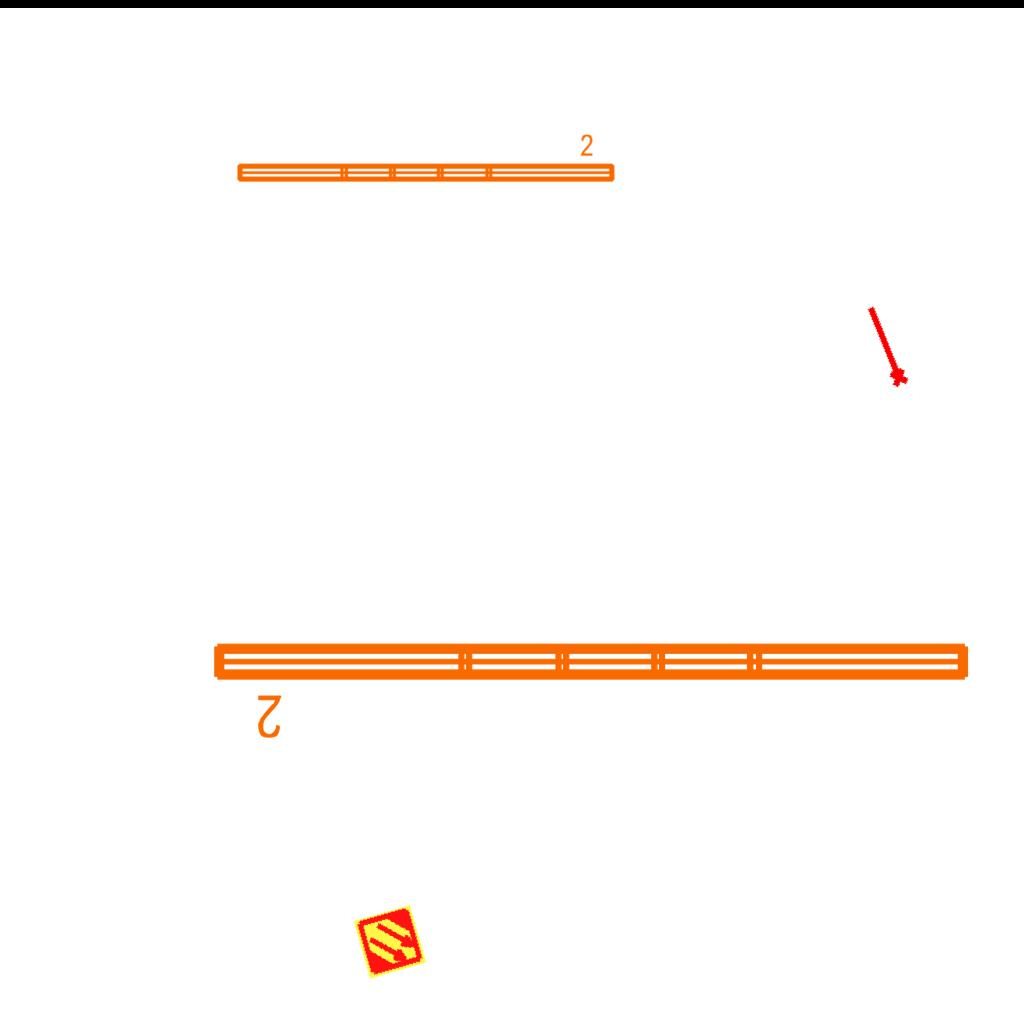ASR_Ansaugoeffnung: (857, 301, 913, 392)
ASR_Ansaugrauchmelder: (351, 903, 429, 981)
Ambulanz_Pendelleuchte_LED: (205, 631, 979, 743), (232, 132, 619, 188)
